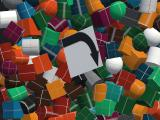Right: (61, 26, 103, 78)
